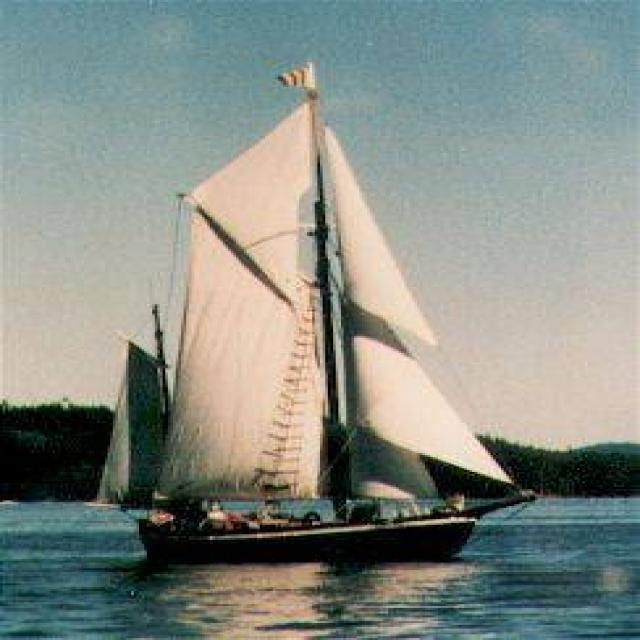Ship: (90, 65, 521, 569)
